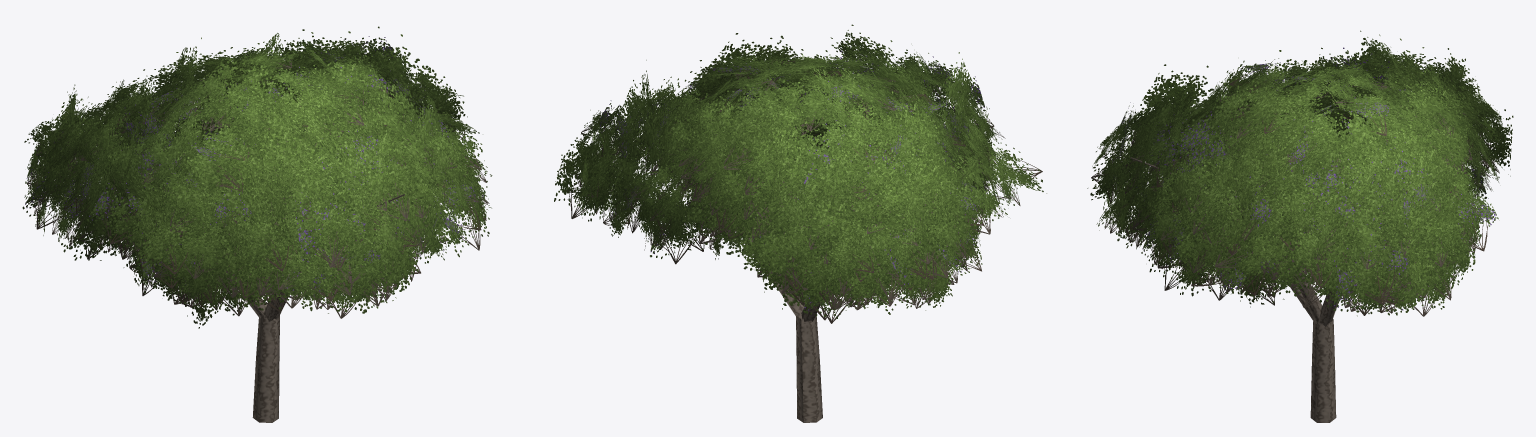
The model's file is tree_jacaranda.glb.
3 views of the same model, side by side, from view 1: azimuth 30°, elevation 25°; view 2: azimuth 150°, elevation 25°; view 3: azimuth 270°, elevation 25° (orthographic). The views are drawn at different scales.
Visible parts, largest first — view 1: tree_jacaranda; view 2: tree_jacaranda; view 3: tree_jacaranda.
Part boxes in pixels (bbox=[...]): tree_jacaranda: bbox=[22, 26, 492, 422]; tree_jacaranda: bbox=[554, 24, 1046, 422]; tree_jacaranda: bbox=[1087, 30, 1513, 422].
Size of the model in its own units: 11.19 by 9.55 by 10.25.
1 material, 1 textured.
